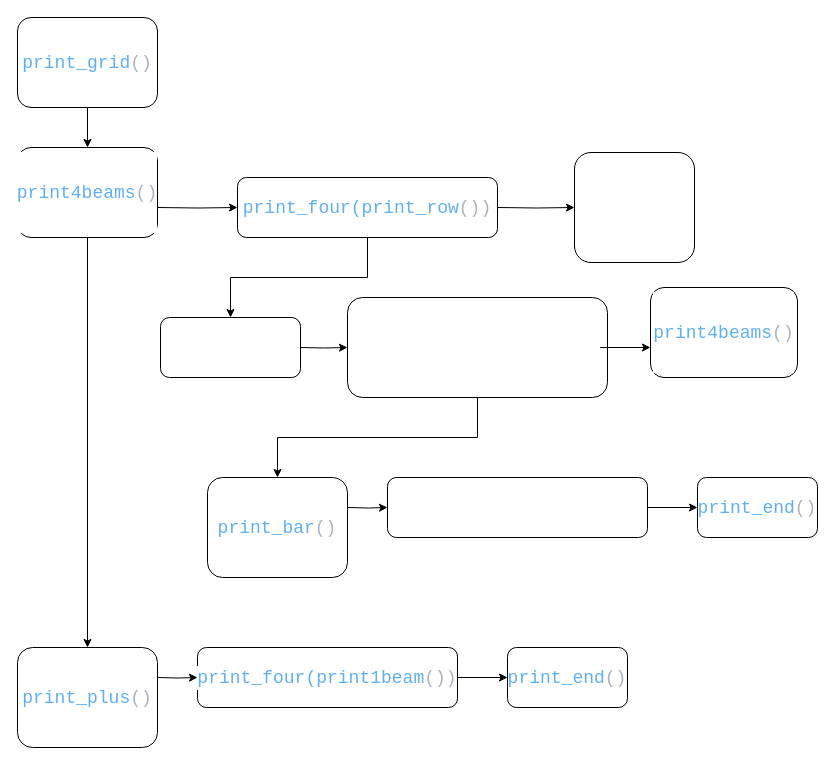
This 835x765 diagram has some shape labels left out. The shapes that lost their labels are listed below. From the top down, each one's box as (x1, y1, x2, y2) in pixels, then its label:
(574, 152, 694, 262): nothing ()
(160, 316, 300, 378): nothing()
(346, 296, 608, 398): print4posts ()
(386, 476, 648, 538): print_four( print1post () )
